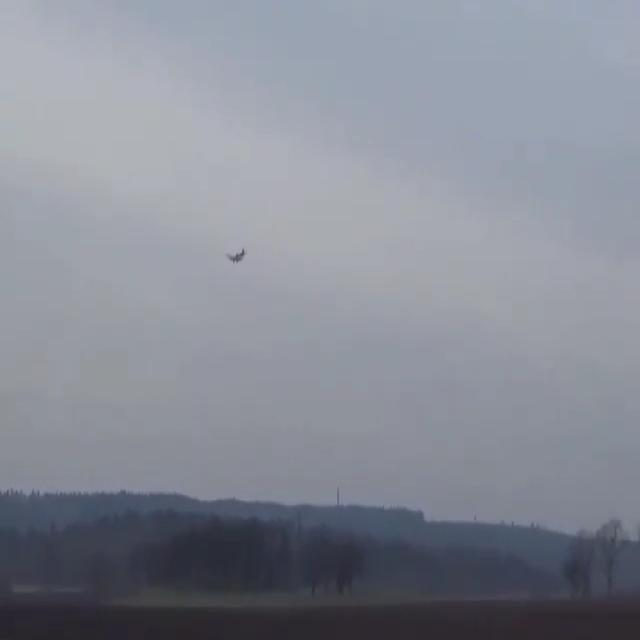AirPlane: (222, 244, 258, 274)
